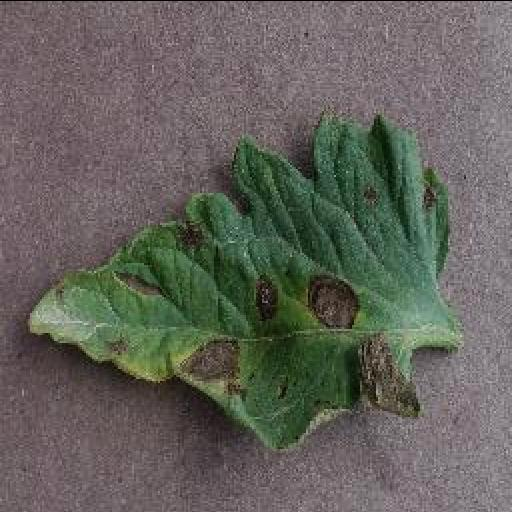disease_tomato: (26, 114, 464, 448)
